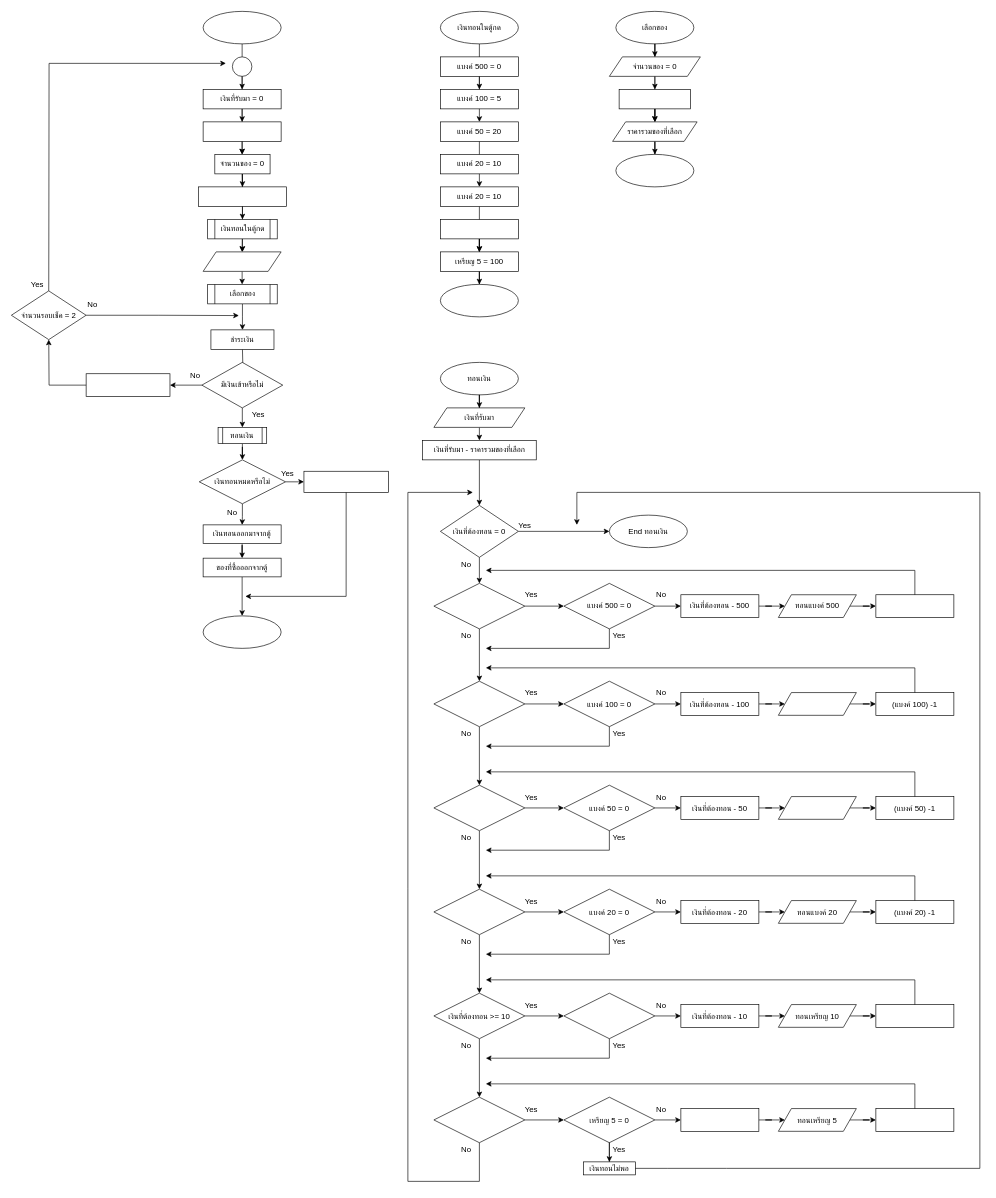
This 996x1198 diagram has some shape labels left out. The shapes that lost their labels are listed below. From the top down, each one's centre as x and y in pixels, then its label:
the point at 241,27: START
the point at 654,99: จำนวนของ * 45
the point at 241,131: เงินทอน = 0
the point at 654,170: End เลือกของ
the point at 242,196: จำนวนรอบในการเช็ค = 0
the point at 479,229: เหรียญ 10 = 1,000
the point at 241,261: เลือกของในตู้
the point at 479,300: End เงินทอนในตู้กด
the point at 127,384: จำนวนรอบในการเช็ค + 1
the point at 345,481: คืนเงินตามจำนวนที่รับมา
the point at 479,606: เงินที่ต้องทอน >= 500
the point at 914,606: (แบงค์ 500) -1
the point at 241,631: END
the point at 479,704: เงินที่ต้องทอน >= 100
the point at 817,703: ทอนแบงค์ 100
the point at 479,808: เงินที่ต้องทอน >= 50
the point at 817,807: ทอนแบงค์ 50
the point at 479,912: เงินที่ต้องทอน >= 20
the point at 609,1016: เหรียญ 10 = 0
the point at 914,1015: (เหรียญ 10) -1
the point at 479,1120: เงินที่ต้องทอน >= 5
the point at 719,1119: เงินที่ต้องทอน - 5
the point at 914,1119: (แบงค์ 5) -1
